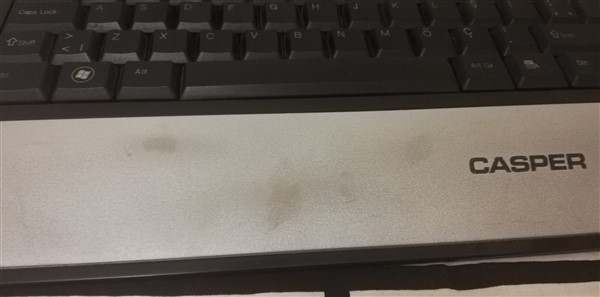klavye: (5, 1, 599, 252)
